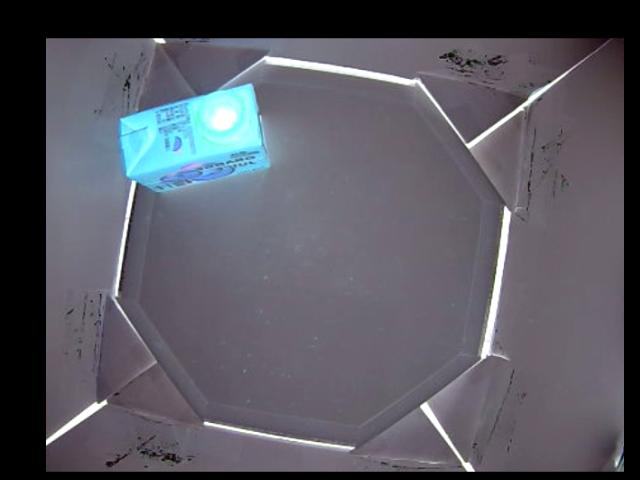Bottle: (117, 84, 270, 190)
